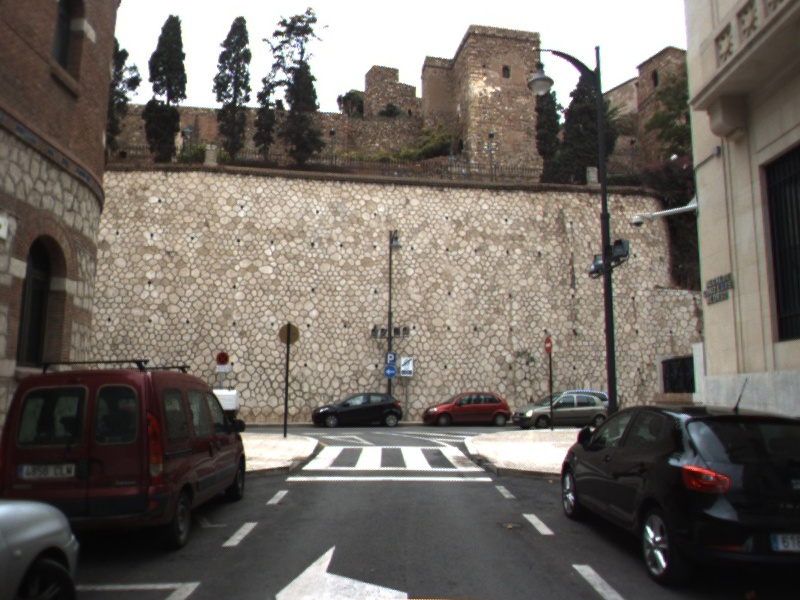LEFT: (273, 544, 410, 600)
